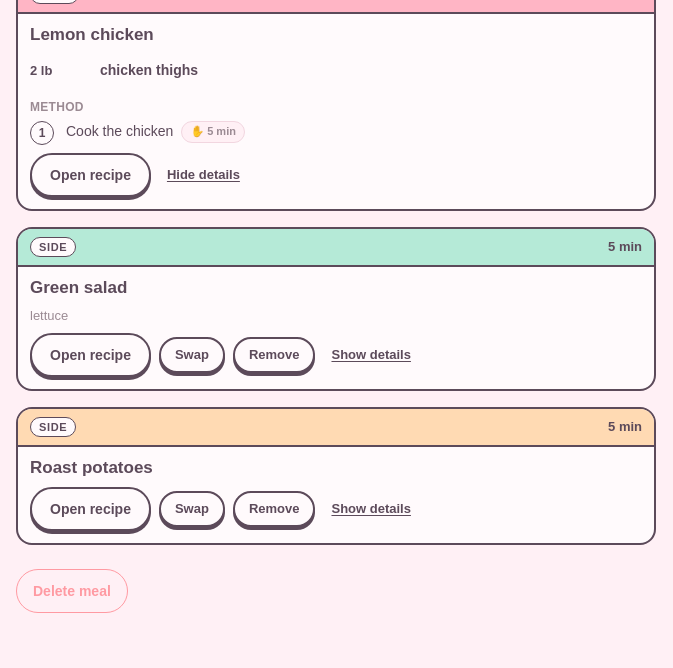
Test: meal screen — timeline recomputation (issue #652) › updates the timeline after swapping a side
(page scrolled)
Expected: the heading "Green salad" is shown, [30,278,127,297]
Click the button "Swap" below "lettuce". click: x=192, y=355
box: [159,337,225,373]
(page scrolled)
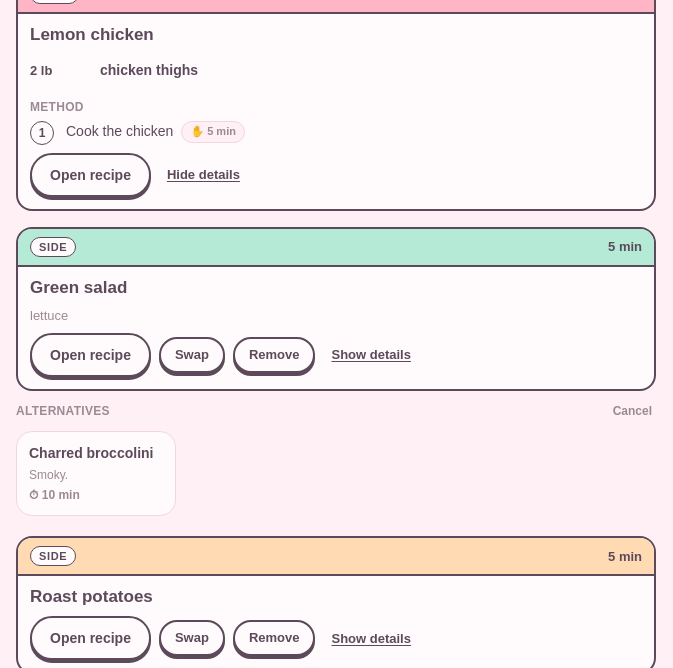
Now the element with test id "side-alternatives-row" is shown, box [16,399,656,520]
Click the list item with aria-label "Pick Charred broccolini". click: x=96, y=474
box: [16,431,176,516]
(page scrolled)
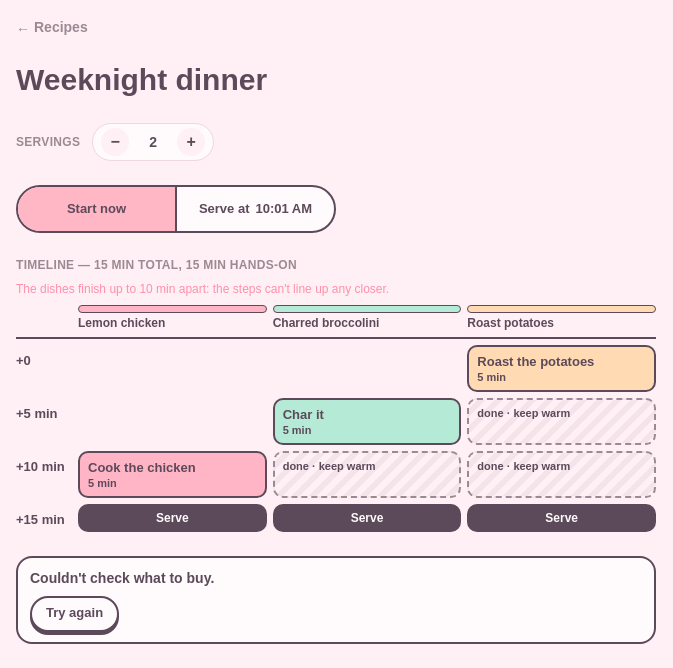
Now the heading "Green salad" is gone
Now the text "Charred broccolini" is shown, box [273,316,379,330]
